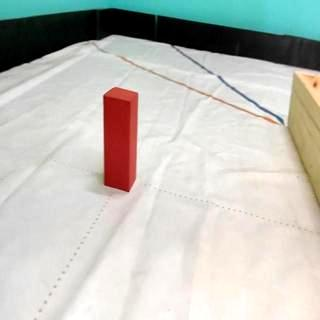redbox: (101, 85, 138, 191)
